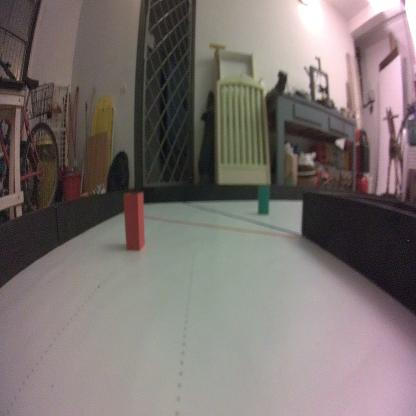green: (257, 184, 269, 217)
red: (122, 191, 146, 252)
